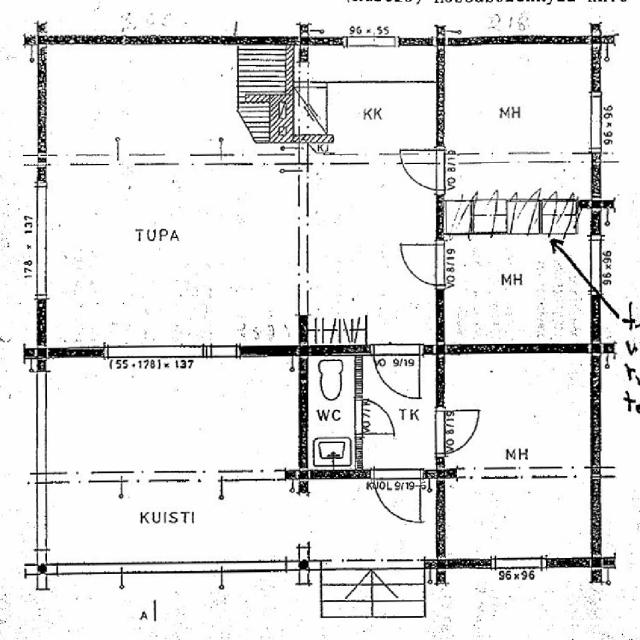door: (373, 346, 420, 404), (374, 470, 420, 526), (436, 411, 487, 454), (398, 244, 445, 284), (398, 150, 445, 190), (355, 399, 396, 435)
